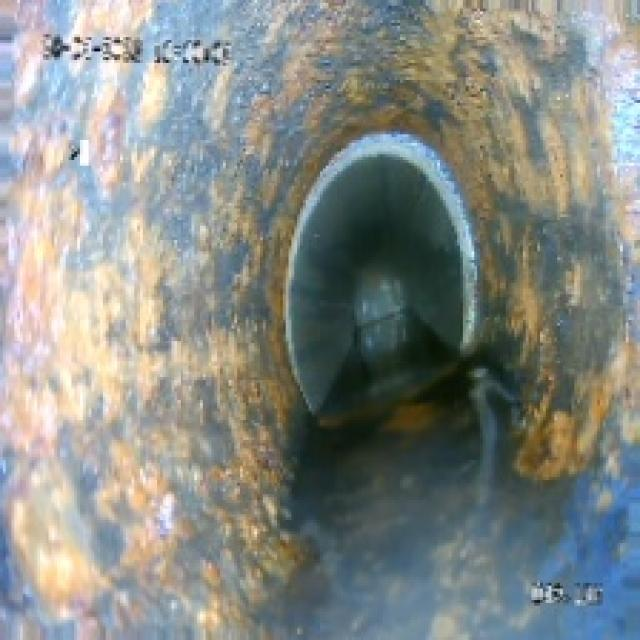encrustation: (111, 86, 608, 511)
